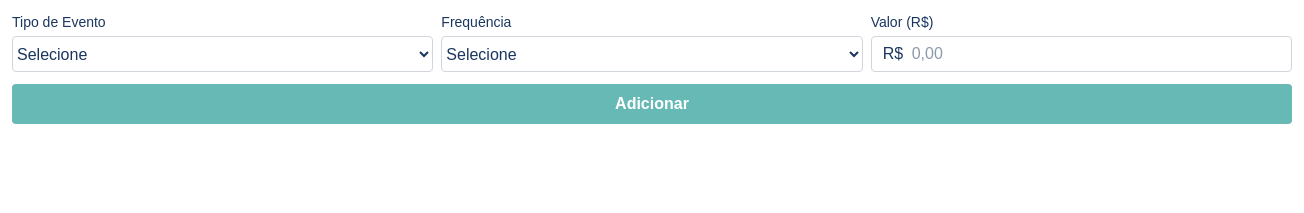
Test: EventForm › should show start_year and end_year fields when frequency is "mensal"
The image size is (1304, 213).
Select "Mensal" in the dropdown below "Frequência" at [652, 54], box left=441, top=36, right=863, bottom=72
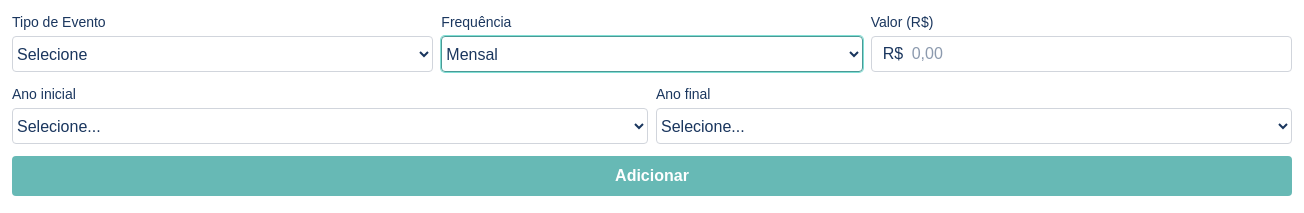
Check: the text "Ano inicial" is shown, box left=12, top=86, right=76, bottom=102
Check: the text "Ano final" is shown, box left=656, top=86, right=710, bottom=102
